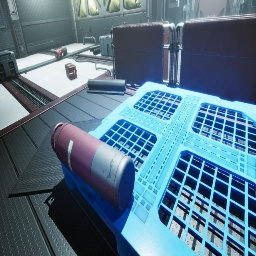FirstAidBox ,: (65, 62, 77, 80)
NitrogenTank ,: (51, 122, 135, 213), (55, 46, 67, 59)
SafetySwitchPanel ,: (168, 0, 179, 8)
